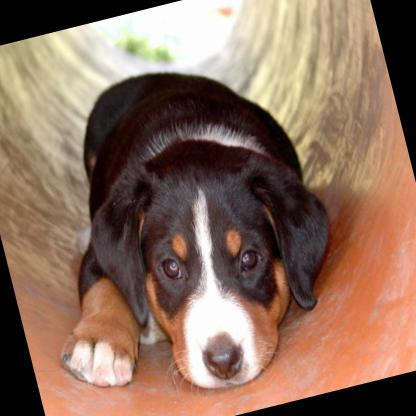Appenzeller: (0, 36, 362, 416)
